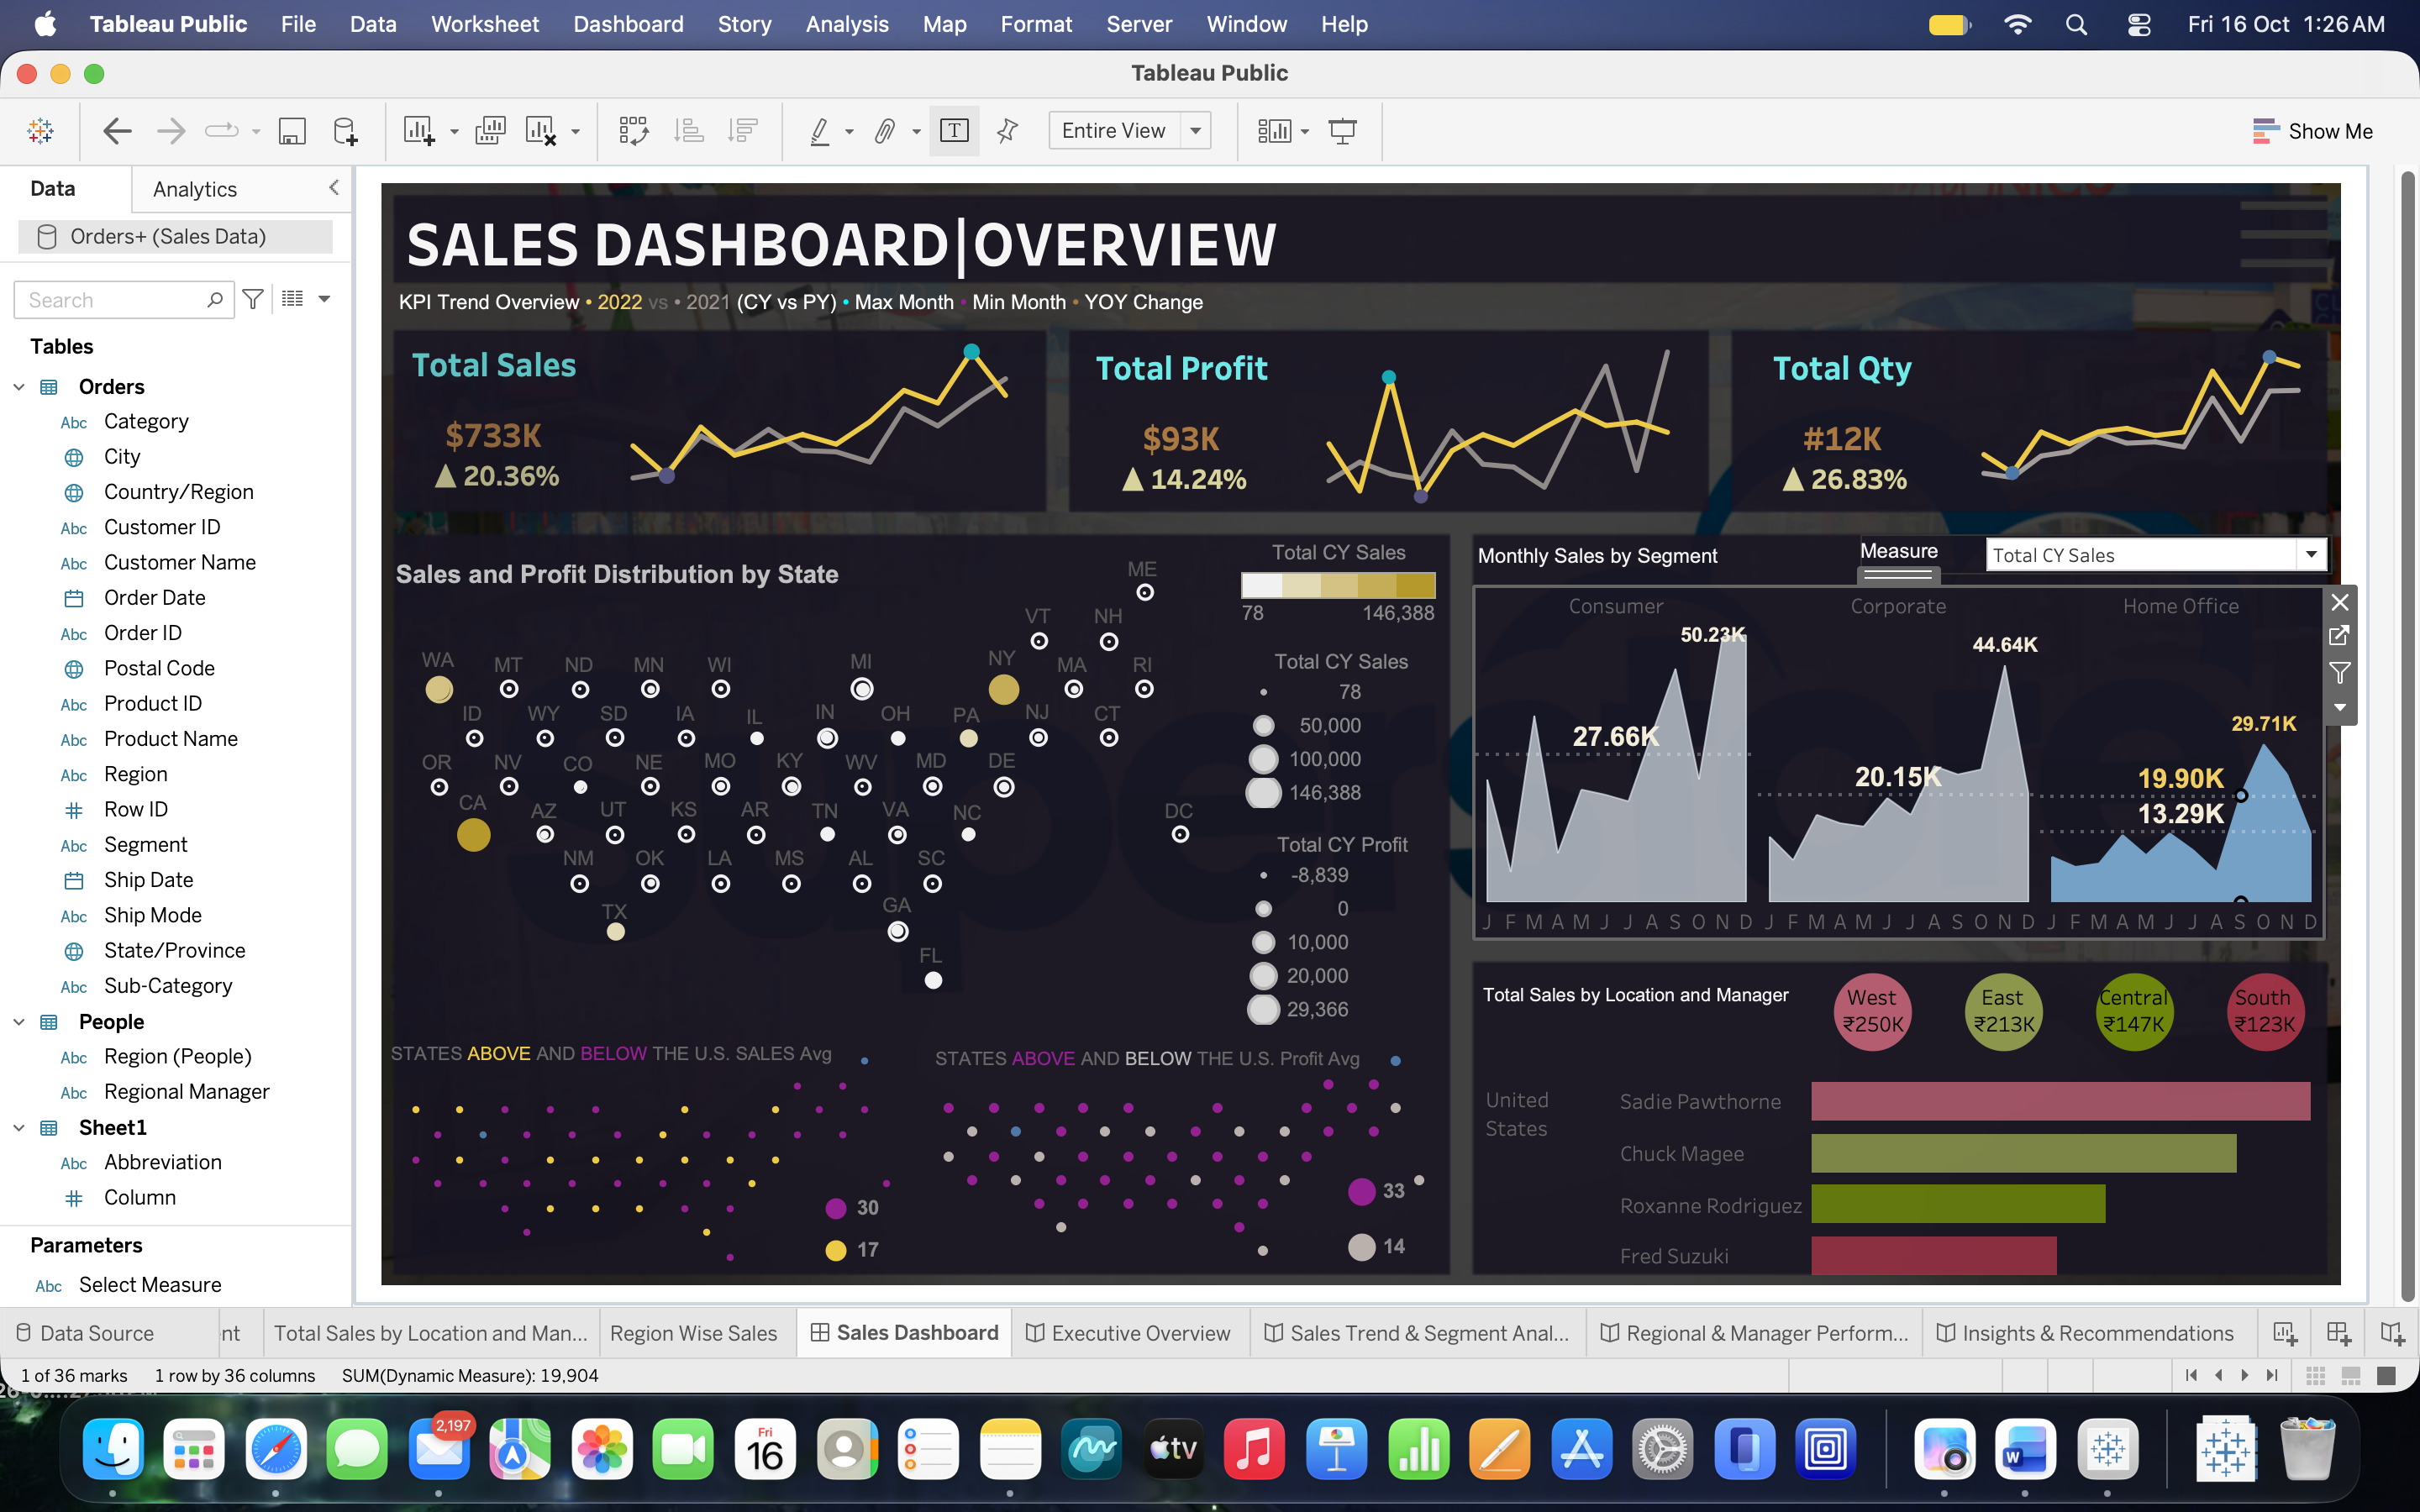

The page's visual inventory and layout, read from the dashboard file:
{"tool":"tableau","page":{"name":"Sales Dashboard","canvas":[1200,680],"ordinal":0},"visuals":[{"type":"image","param":"/Users/syedfarhana/Downloads/Sales Dashboard Background.pptx.png","box":[8,8,1184,664]},{"type":"filter","title":"Sales and Profit by State","param":"[federated.0hnn92p0xja3s21diic6a16x67jk].[none:Category:nk]","box":[704,11,149,32]},{"type":"dashboard-object","box":[1119,13,62,59]},{"type":"text","box":[29,25,663,44]},{"type":"filter","title":"Sales and Profit by State","param":"[federated.0hnn92p0xja3s21diic6a16x67jk].[none:Region:nk]","box":[704,43,149,32]},{"type":"text","box":[25,70,522,27]},{"type":"filter","title":"Sales and Profit by State","param":"[federated.0hnn92p0xja3s21diic6a16x67jk].[none:Ship Mode:nk]","box":[704,75,149,32]},{"type":"worksheet","title":"Sales KPI","mark":"Automatic","box":[27,100,115,105]},{"type":"worksheet","title":"Sales Sparkline","mark":"Automatic","rows":["Calculation_0108143296180236"],"cols":["Order Date"],"box":[142,100,270,105]},{"type":"worksheet","title":"Profit KPI","mark":"Automatic","box":[429,102,129,105]},{"type":"worksheet","title":"Profit Sparkline","mark":"Automatic","rows":["Min Max Sales (copy)_0108143312371725"],"cols":["Order Date"],"box":[558,102,246,105]},{"type":"worksheet","title":"Quantity KPI","mark":"Automatic","box":[825,104,124,101]},{"type":"worksheet","title":"Qty Sparkline","mark":"Automatic","rows":["Min Max Profit (copy)_0108143317450766"],"cols":["Order Date"],"box":[949,104,229,101]},{"type":"parameter","param":"[Parameters].[Parameter 1]","box":[897,221,281,24]},{"type":"text","box":[23,224,297,42]},{"type":"text","box":[667,224,170,20]},{"type":"legend","title":"Sales and Profit by State","param":"[federated.0hnn92p0xja3s21diic6a16x67jk].[sum:Calculation_0108143260954624:qk]","box":[525,225,124,55]},{"type":"worksheet","title":"Sales and Profit by State","mark":"Circle","rows":["Row"],"cols":["Column","Column"],"box":[22,227,497,288]},{"type":"worksheet","title":"Monthly Sales by Segment","mark":"Area","rows":["Calculation_0187102086275073"],"cols":["Segment","Order Date"],"box":[668,253,504,208]},{"type":"legend","title":"Sales and Profit by State","param":"[federated.0hnn92p0xja3s21diic6a16x67jk].[sum:Calculation_0108143260954624:qk]","box":[528,290,121,106]},{"type":"legend","title":"Sales and Profit by State","param":"[federated.0hnn92p0xja3s21diic6a16x67jk].[sum:Total CY Sales (copy)_010814328486","box":[529,399,120,117]},{"type":"worksheet","title":"Region Wise Sales","mark":"Circle","cols":["Region"],"box":[866,477,311,56]},{"type":"text","box":[670,479,187,34]},{"type":"worksheet","title":"Avg Sales by State","mark":"Circle","rows":["Row"],"cols":["Column"],"box":[21,520,313,146]},{"type":"worksheet","title":"Avg Profit by State","mark":"Circle","rows":["Row"],"cols":["Column"],"box":[338,520,313,142]},{"type":"text","box":[20,523,269,15]},{"type":"text","box":[344,526,260,15]},{"type":"worksheet","title":"Total Sales by Location and Manager","mark":"Automatic","rows":["Country/Region","Regional Manager"],"cols":["Calculation_0108143260954624"],"box":[668,543,512,123]},{"type":"worksheet","title":"Avg Profit by State Count","mark":"Circle","rows":["Sales Avg Color (copy)_0108143378133012"],"box":[572,596,57,66]},{"type":"worksheet","title":"Avg Sales by State Count","mark":"Circle","rows":["Calculation_0108143373242385"],"box":[258,610,58,50]}]}

Visuals, with their boxes on the page's 1200x680 design canvas (x1, y1, x2, y2). These are canvas units, not pixel positions in the 2420x1512 screenshot, which may show the page scaled, cropped or inside an application window:
image: region(8, 8, 1192, 672)
"Sales and Profit by State" filter: region(704, 11, 853, 43)
dashboard-object: region(1119, 13, 1181, 72)
text: region(29, 25, 692, 69)
"Sales and Profit by State" filter: region(704, 43, 853, 75)
text: region(25, 70, 547, 97)
"Sales and Profit by State" filter: region(704, 75, 853, 107)
"Sales KPI" worksheet: region(27, 100, 142, 205)
"Sales Sparkline" worksheet: region(142, 100, 412, 205)
"Profit KPI" worksheet: region(429, 102, 558, 207)
"Profit Sparkline" worksheet: region(558, 102, 804, 207)
"Quantity KPI" worksheet: region(825, 104, 949, 205)
"Qty Sparkline" worksheet: region(949, 104, 1178, 205)
parameter: region(897, 221, 1178, 245)
text: region(23, 224, 320, 266)
text: region(667, 224, 837, 244)
"Sales and Profit by State" legend: region(525, 225, 649, 280)
"Sales and Profit by State" worksheet (Circle marks): region(22, 227, 519, 515)
"Monthly Sales by Segment" worksheet (Area marks): region(668, 253, 1172, 461)
"Sales and Profit by State" legend: region(528, 290, 649, 396)
"Sales and Profit by State" legend: region(529, 399, 649, 516)
"Region Wise Sales" worksheet (Circle marks): region(866, 477, 1177, 533)
text: region(670, 479, 857, 513)
"Avg Sales by State" worksheet (Circle marks): region(21, 520, 334, 666)
"Avg Profit by State" worksheet (Circle marks): region(338, 520, 651, 662)
text: region(20, 523, 289, 538)
text: region(344, 526, 604, 541)
"Total Sales by Location and Manager" worksheet: region(668, 543, 1180, 666)
"Avg Profit by State Count" worksheet (Circle marks): region(572, 596, 629, 662)
"Avg Sales by State Count" worksheet (Circle marks): region(258, 610, 316, 660)
